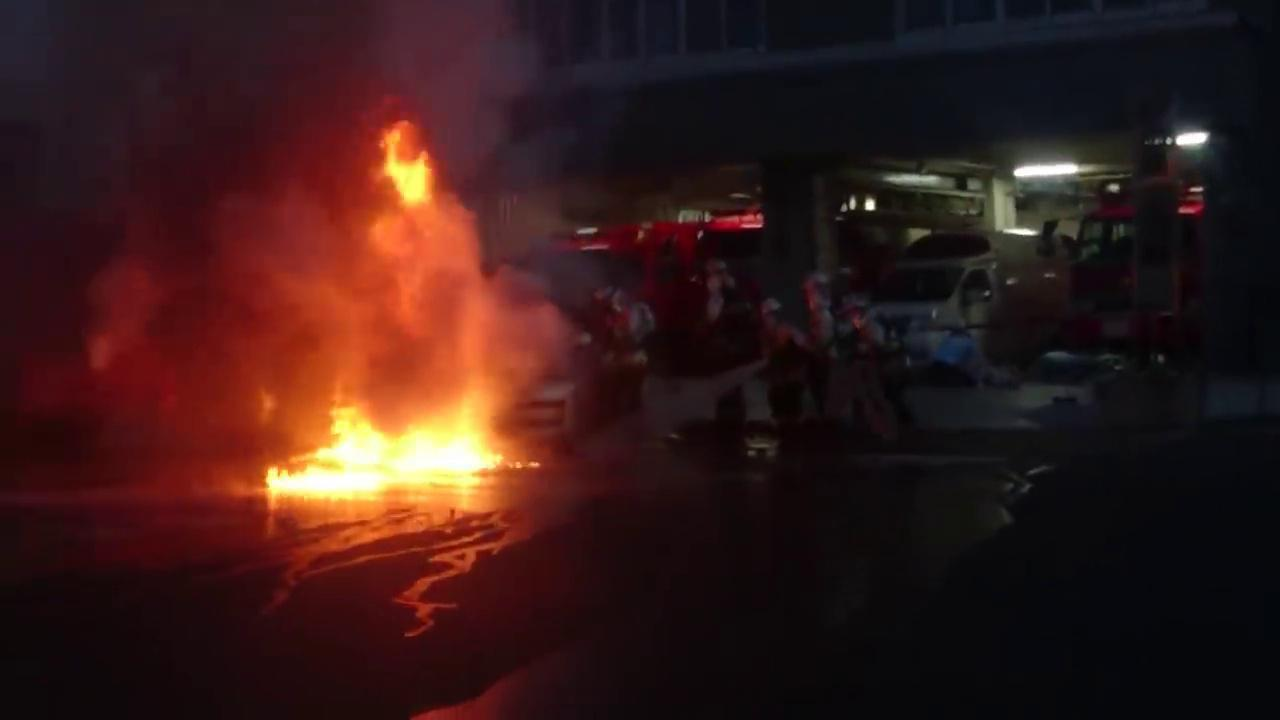Fire: (267, 403, 508, 497), (378, 125, 437, 202)
